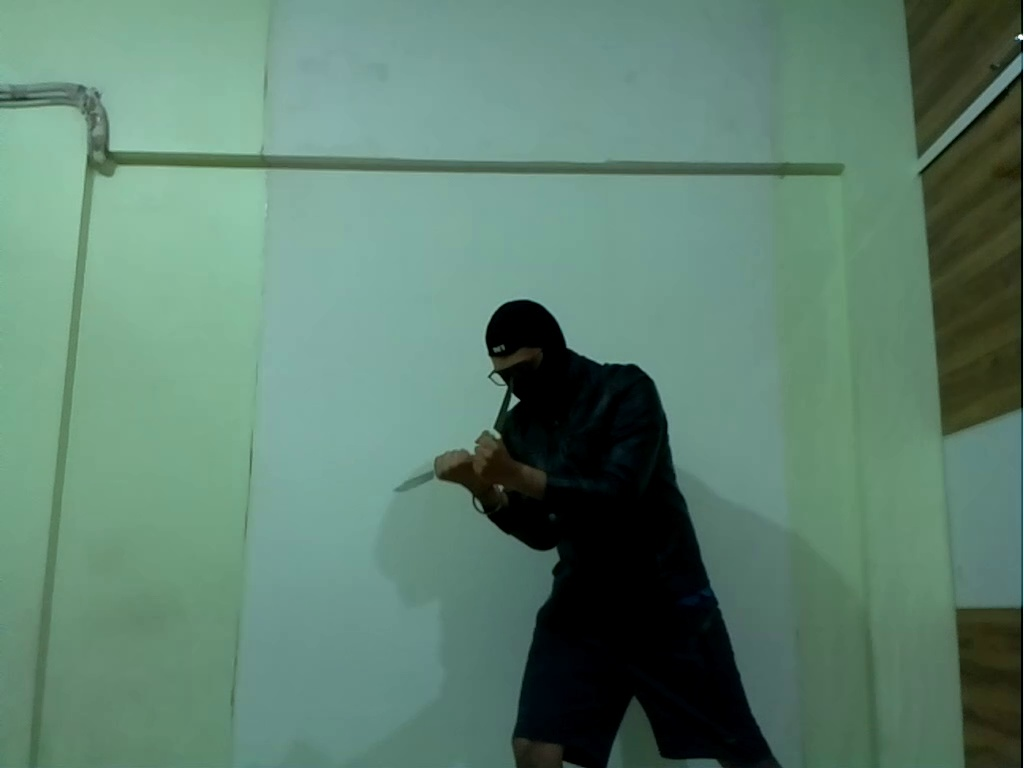knife: (387, 460, 449, 498)
